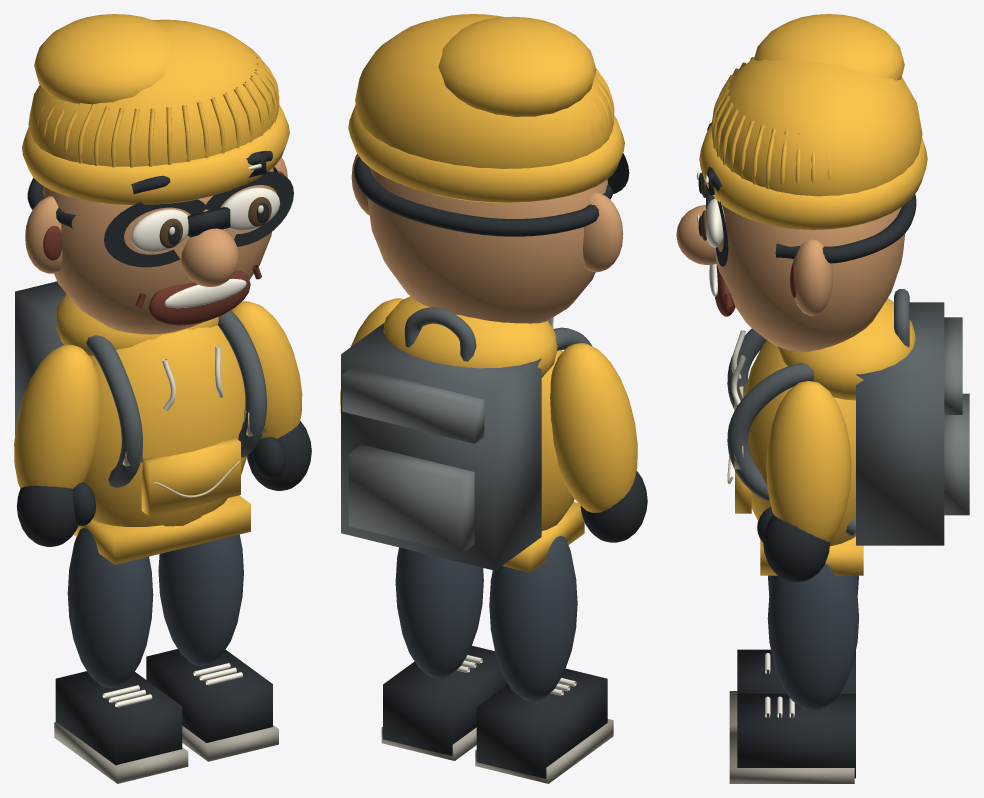
Rendered from burglar.glb.
The picture shows the model from 3 angles, left to right: view 1: azimuth 30°, elevation 25°; view 2: azimuth 150°, elevation 25°; view 3: azimuth 270°, elevation 25°; orthographic projection. The views are drawn at different scales.
Visible parts, largest first — view 1: Beanie, Hoodie, Face, SleeveL, BeanieSlouch, TrouserL, BeanieCuff, TrouserR, SneakerL, SneakerR, KangarooPocket, Hem (+22 smaller); view 2: Backpack, Face, Beanie, BeanieSlouch, SleeveL, PackPocket, TrouserL, BeanieCuff, SneakerL, TrouserR, SneakerR, PackFlap (+10 smaller); view 3: Beanie, Backpack, Face, SleeveR, TrouserR, SneakerR, BeanieCuff, BeanieSlouch, Hood, Hoodie, ShoulderStrap.001, GloveR (+12 smaller).
Part boxes in pixels (bbox=[...]): Beanie: bbox=[28, 19, 278, 166]; Hoodie: bbox=[83, 325, 247, 526]; Face: bbox=[42, 167, 276, 334]; SleeveL: bbox=[14, 344, 100, 488]; BeanieSlouch: bbox=[34, 14, 173, 104]; TrouserL: bbox=[67, 528, 153, 687]; BeanieCuff: bbox=[22, 105, 289, 205]; TrouserR: bbox=[158, 534, 243, 665]; SneakerL: bbox=[55, 671, 182, 765]; SneakerR: bbox=[146, 649, 272, 742]; KangarooPocket: bbox=[141, 437, 240, 516]; Hem: bbox=[73, 495, 250, 564]; Backpack: bbox=[341, 322, 541, 570]; Face: bbox=[367, 168, 608, 323]; Beanie: bbox=[355, 14, 613, 168]; BeanieSlouch: bbox=[438, 16, 596, 116]; SleeveL: bbox=[550, 343, 637, 512]; PackPocket: bbox=[348, 444, 474, 553]; TrouserL: bbox=[489, 536, 577, 701]; BeanieCuff: bbox=[348, 105, 624, 203]; SneakerL: bbox=[476, 668, 607, 778]; TrouserR: bbox=[395, 547, 483, 678]; SneakerR: bbox=[383, 645, 507, 755]; PackFlap: bbox=[342, 367, 484, 443]; Beanie: bbox=[714, 57, 922, 196]; Backpack: bbox=[856, 302, 944, 545]; Face: bbox=[714, 197, 905, 352]; SleeveR: bbox=[766, 381, 851, 542]; TrouserR: bbox=[767, 563, 858, 710]; SneakerR: bbox=[737, 693, 855, 778]; BeanieCuff: bbox=[699, 124, 927, 229]; BeanieSlouch: bbox=[754, 14, 904, 80]; Hood: bbox=[777, 298, 915, 400]; Hoodie: bbox=[743, 340, 855, 546]; ShoulderStrap.001: bbox=[727, 363, 855, 535]; GloveR: bbox=[763, 514, 830, 582].
Size of the model in its own units: 1.07 by 2.54 by 0.9625.
